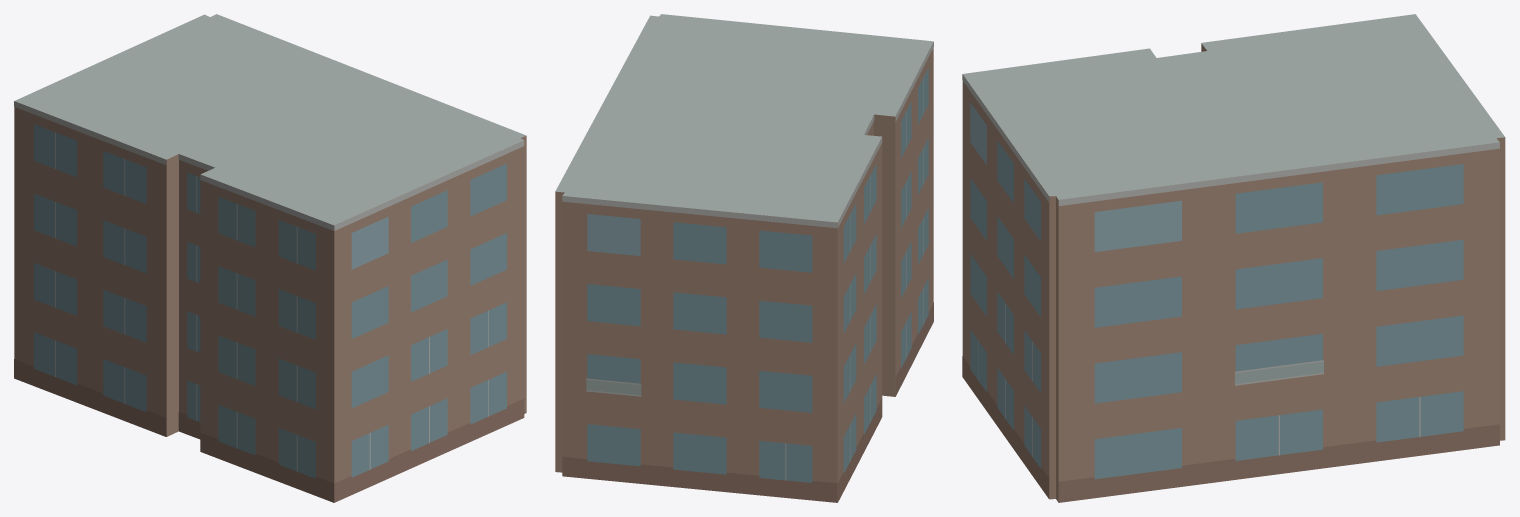
The model's file is survey-upis-32534679.glb.
The picture shows the model from 3 angles, left to right: view 1: azimuth 30°, elevation 25°; view 2: azimuth 150°, elevation 25°; view 3: azimuth 270°, elevation 25°; orthographic projection. The views are drawn at different scales.
Visible parts, largest first — view 1: survey-upis-32534679.tmp; view 2: survey-upis-32534679.tmp; view 3: survey-upis-32534679.tmp.
Part boxes in pixels (left/top/right/bottom): survey-upis-32534679.tmp: left=14, top=14, right=526, bottom=502; survey-upis-32534679.tmp: left=555, top=14, right=933, bottom=502; survey-upis-32534679.tmp: left=962, top=14, right=1505, bottom=502.
Bounding box in the file's own units: 15.68 × 11.9 × 19.34.
